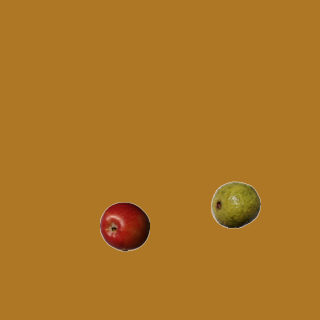Apple Braeburn: (99, 201, 149, 251)
Guava: (210, 179, 260, 229)
